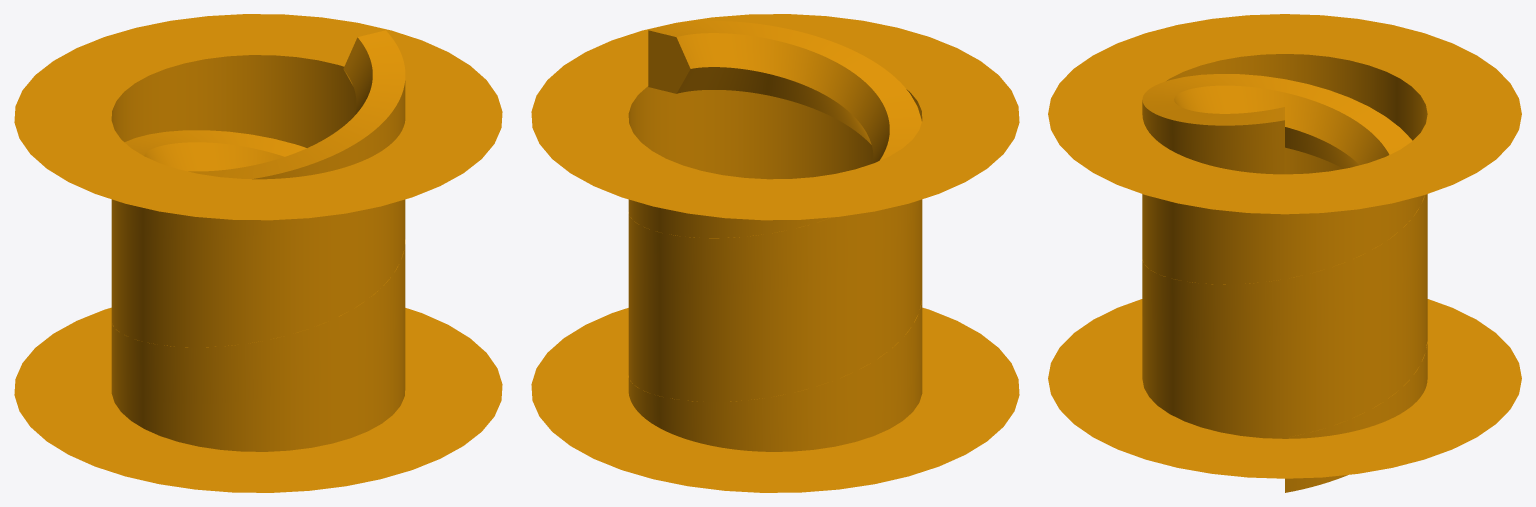
The model's file is biblio.fbx.
3 views of the same model, side by side, from view 1: azimuth 30°, elevation 25°; view 2: azimuth 150°, elevation 25°; view 3: azimuth 270°, elevation 25° (orthographic). The views are drawn at different scales.
Parts seen in each view (by area): view 1: pTorus2; view 2: pTorus2; view 3: pTorus2.
Boxes of the visible parts, left/top/right/bottom form: pTorus2: left=14, top=14, right=502, bottom=492; pTorus2: left=531, top=14, right=1019, bottom=492; pTorus2: left=1048, top=14, right=1521, bottom=492.
Size of the model in its own units: 8.38 by 7.27 by 8.38.
